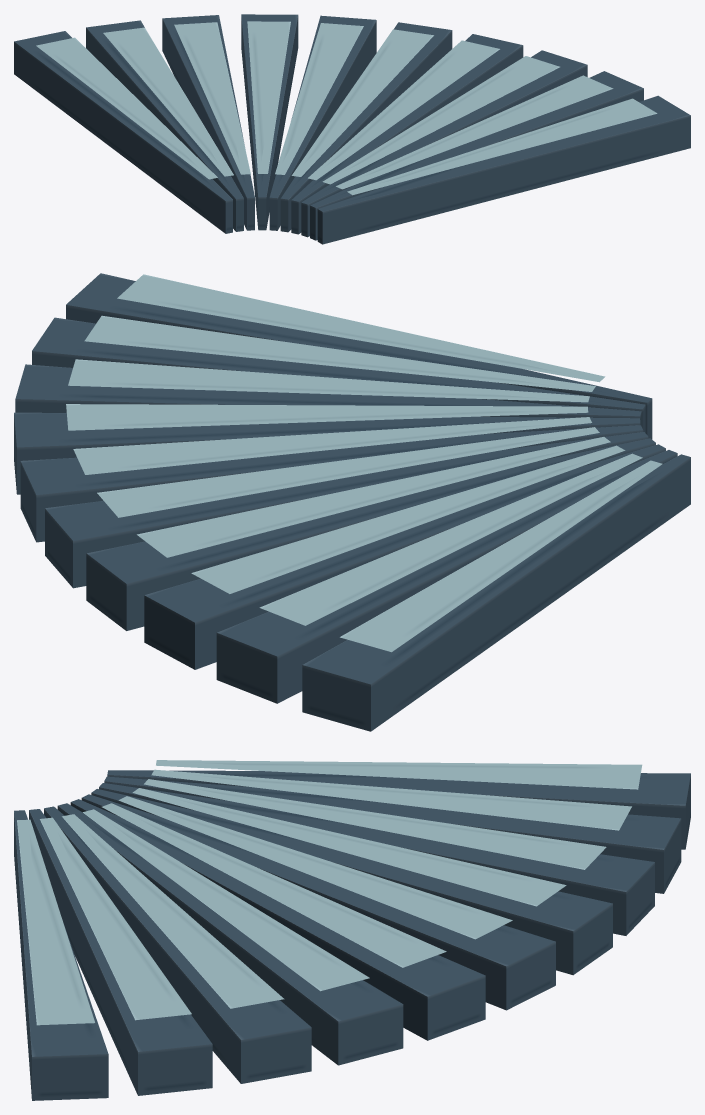
File: sc_tread_curve_left_2.obj
3 renders of one model, top to bottom at view 1: azimuth 30°, elevation 25°; view 2: azimuth 150°, elevation 25°; view 3: azimuth 270°, elevation 25°, orthographic. The views are drawn at different scales.
Bounding box in the file's own units: 17.46 × 1.56 × 17.42.
1 material, 1 textured.
